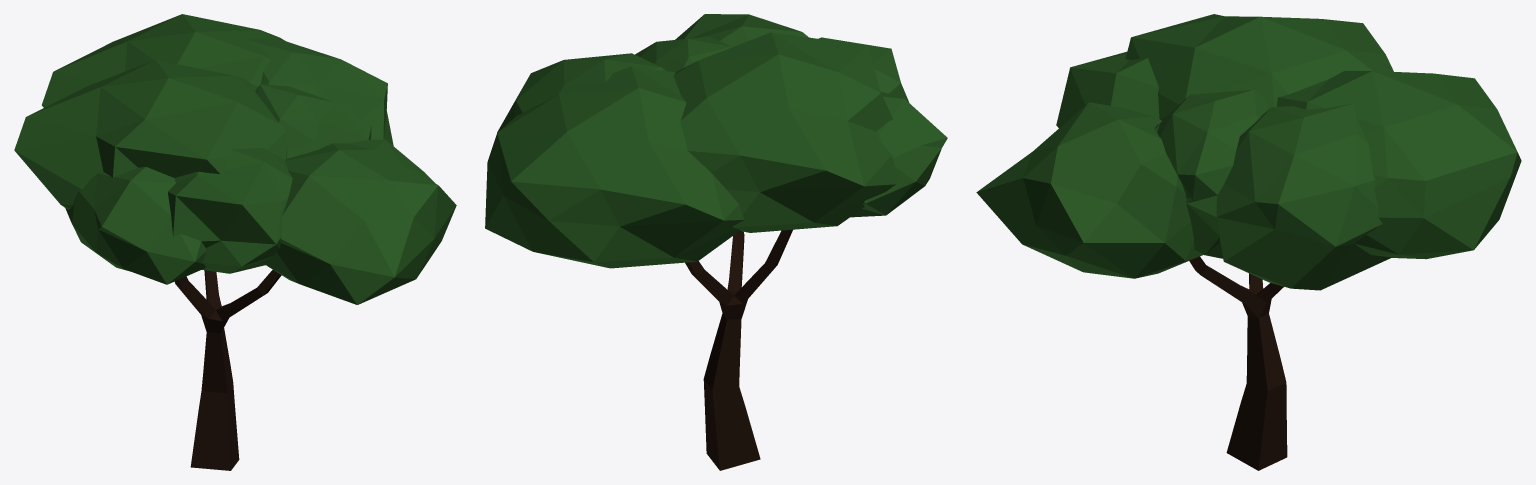
The model's file is tree.glb.
3 renders of one model, left to right at view 1: azimuth 30°, elevation 25°; view 2: azimuth 150°, elevation 25°; view 3: azimuth 270°, elevation 25°, orthographic. The views are drawn at different scales.
Parts seen in each view (by area): view 1: Plane; view 2: Plane; view 3: Plane.
Boxes of the visible parts, left/top/right/bottom form: Plane: left=14, top=14, right=456, bottom=470; Plane: left=485, top=14, right=947, bottom=470; Plane: left=976, top=14, right=1521, bottom=470.
Bounding box in the file's own units: 17 × 18.43 × 21.76.
Materials: 2 (2 with a texture image).
